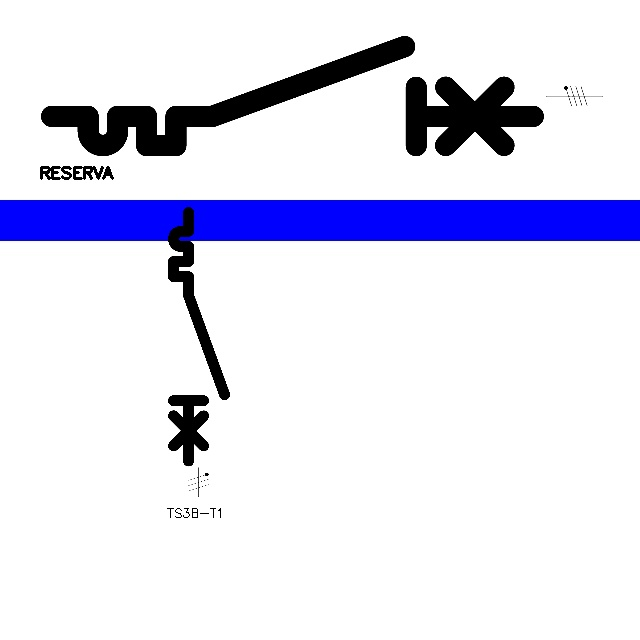interruptor_termomagnetico: (39, 34, 546, 158), (167, 206, 231, 468)
